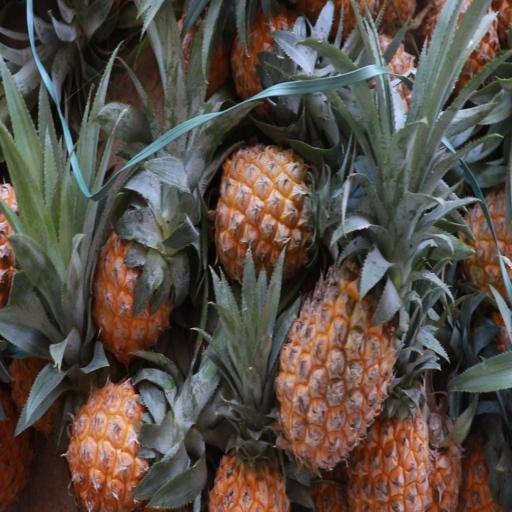Pineapple - v8 v1: (270, 235, 416, 478), (210, 134, 348, 300), (61, 366, 194, 512), (87, 202, 195, 374), (206, 366, 296, 512), (228, 0, 330, 126)
